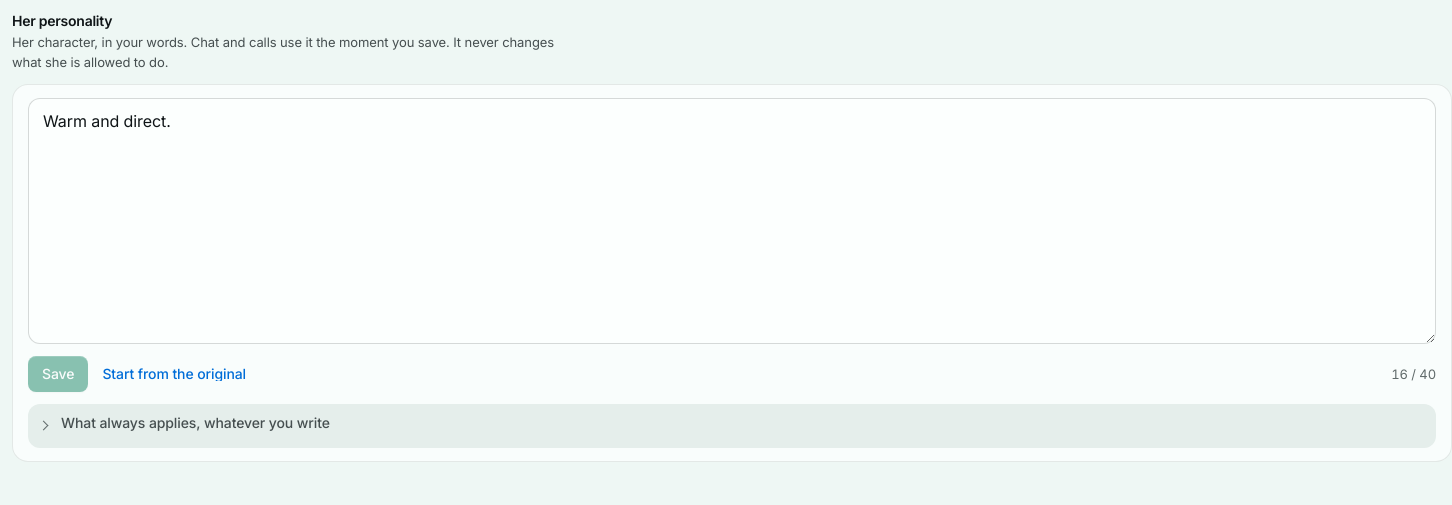
Test: her personality › explains what saving it empty does
Clear the text box named "Personality" at point(732, 221), box [28, 98, 1436, 344]
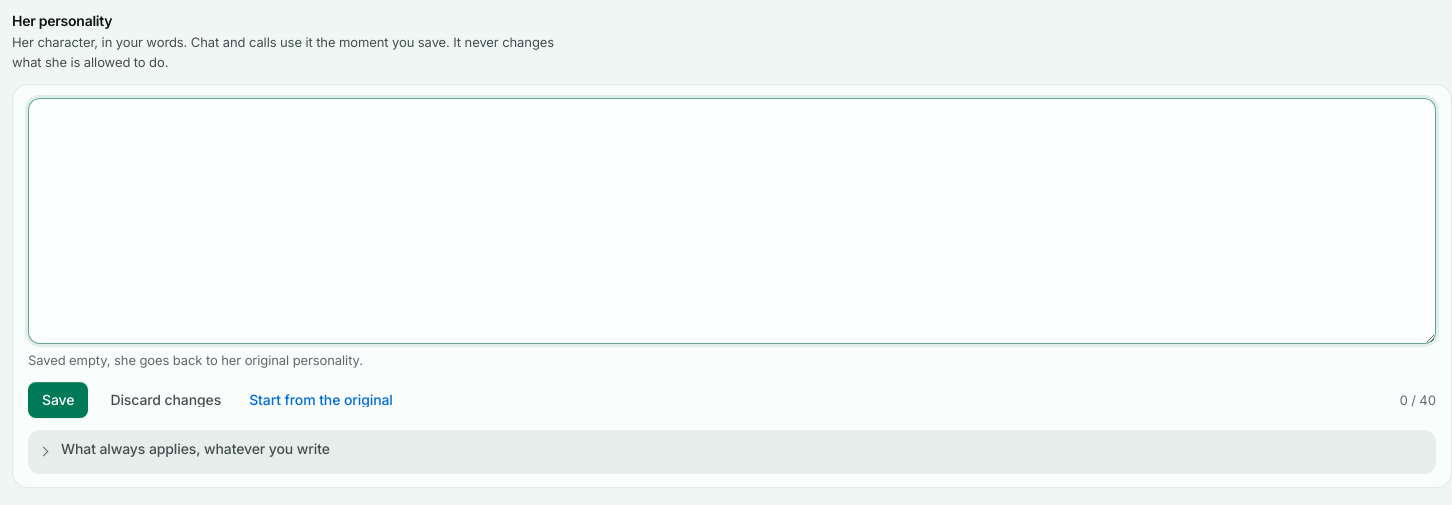
Check: the text "Saved empty, she goes back to her original personality." is shown, box [28, 352, 363, 368]
